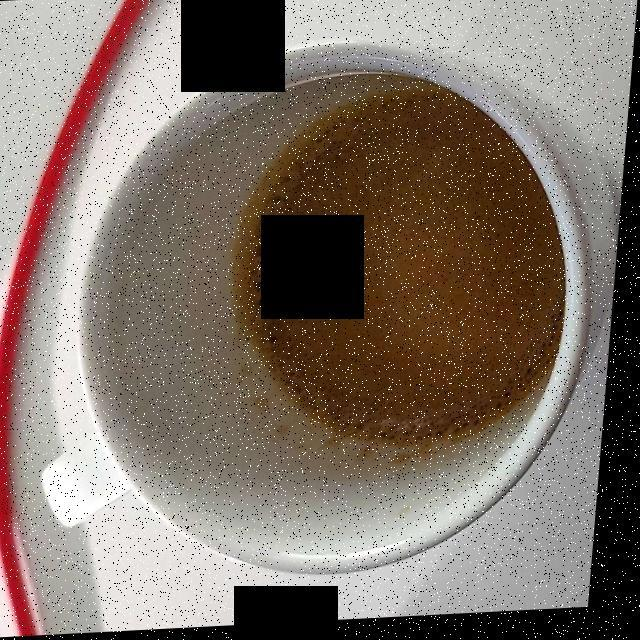coffee: (244, 90, 564, 450)
